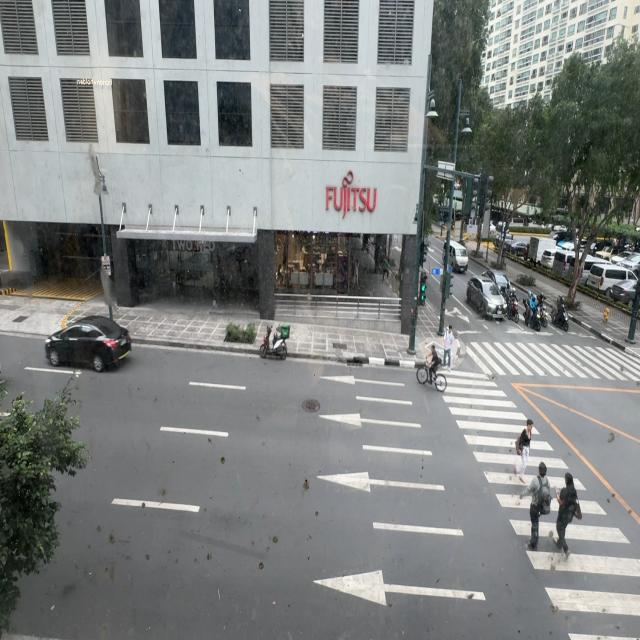crossing: (519, 460, 551, 549), (552, 470, 580, 558), (512, 417, 534, 481)
pedestrain: (494, 232, 500, 251)
waiting: (442, 324, 454, 369)
